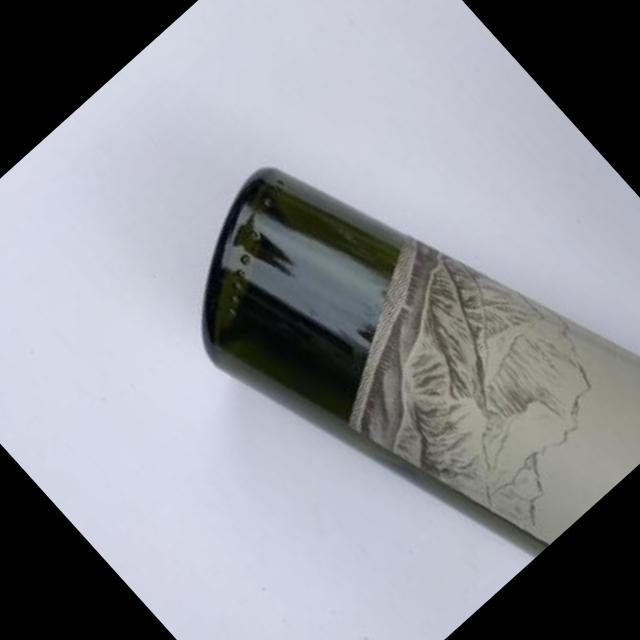BotolKaca: (132, 29, 640, 631)
